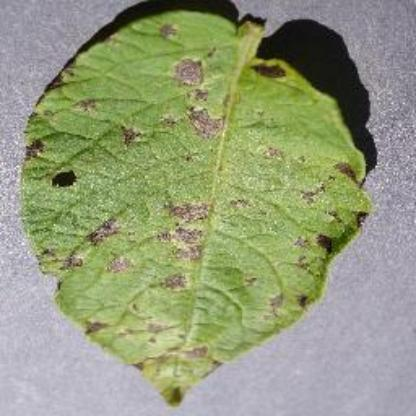Early-Blight: (16, 0, 389, 406)
